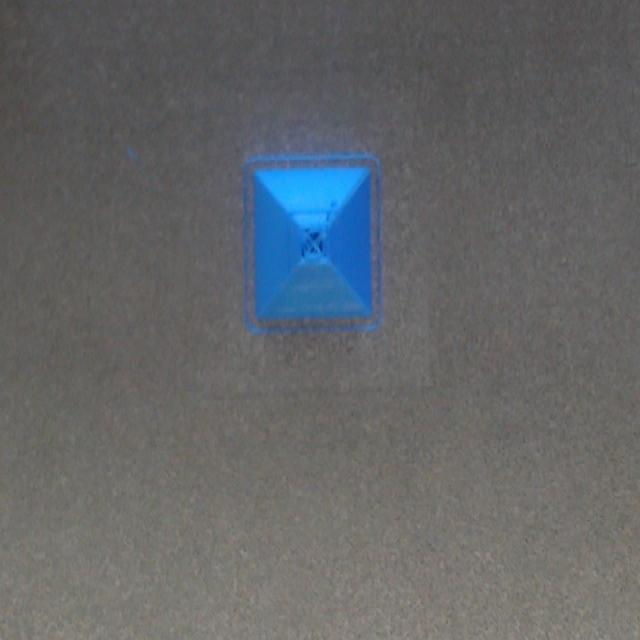mistake: (300, 223, 326, 264)
